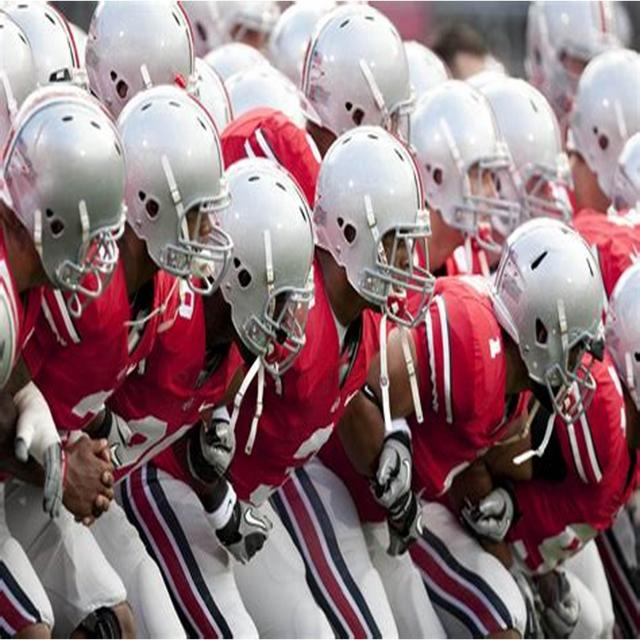illegal_helmet: (0, 74, 132, 324), (304, 122, 440, 334), (110, 80, 238, 303), (199, 152, 318, 384), (488, 211, 614, 428)
